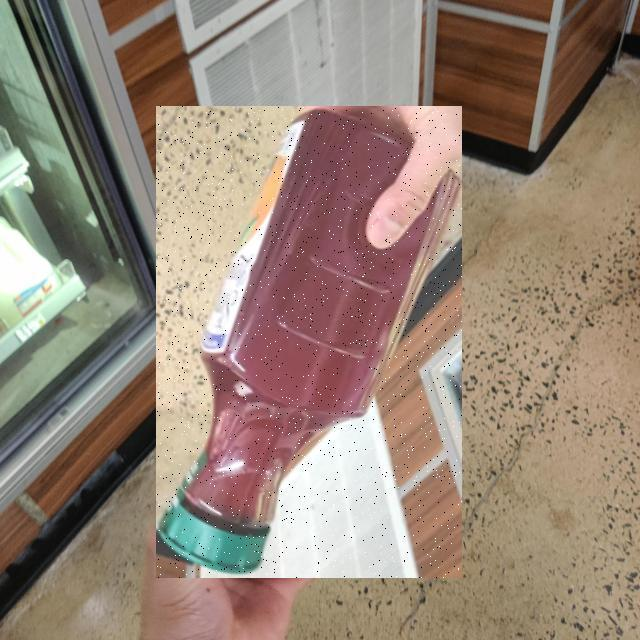Juice: (156, 107, 462, 579)
